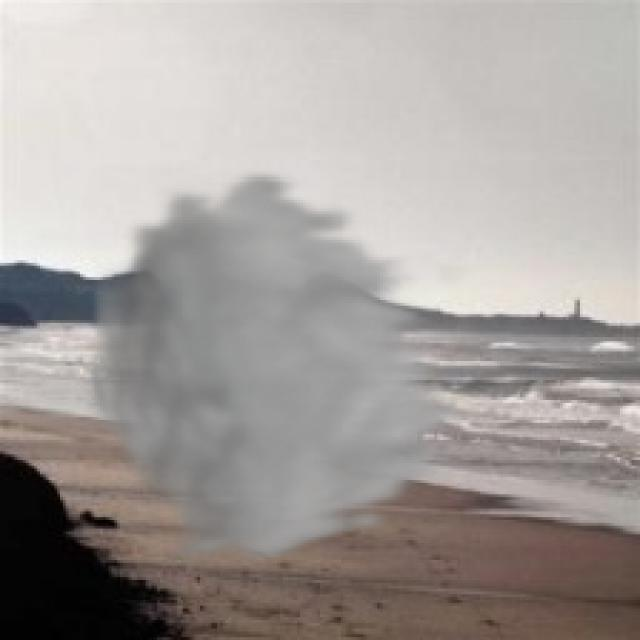Smoke: (77, 165, 483, 566)
